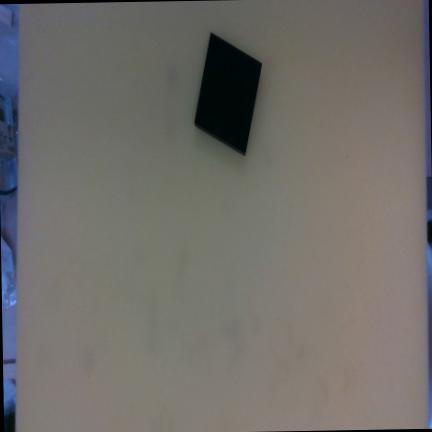tile: (190, 31, 265, 154)
